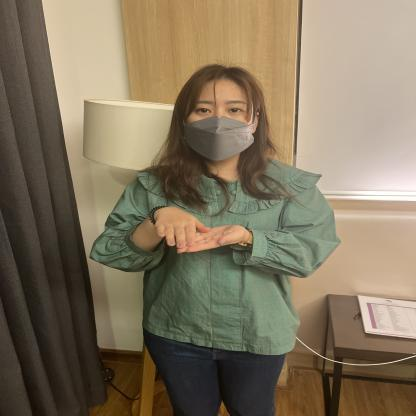Love: (84, 170, 332, 303)
